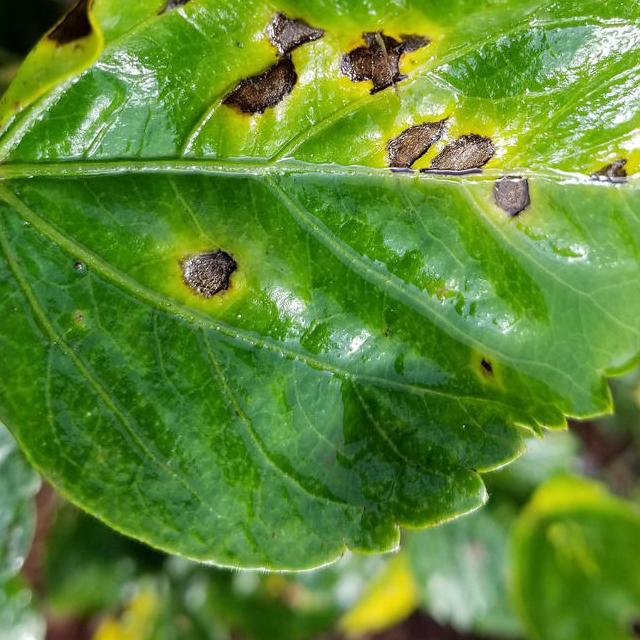Tomato leaf bacterial spot: (0, 0, 640, 584)
